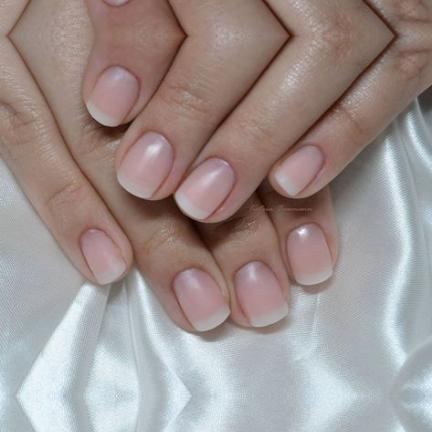Nail: (174, 155, 236, 220), (116, 131, 174, 198), (172, 268, 230, 332), (234, 261, 289, 327), (85, 65, 140, 126), (286, 223, 334, 285), (79, 227, 127, 284), (274, 144, 325, 195), (105, 0, 129, 5)
